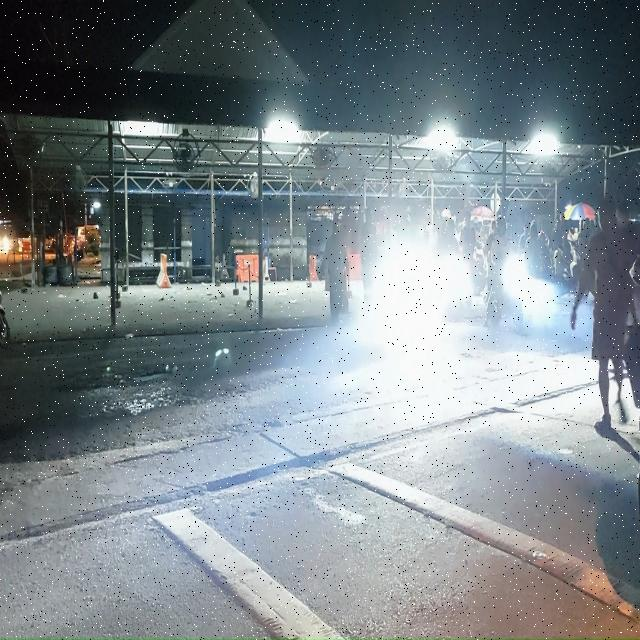Golongan II: (486, 257, 524, 331)
